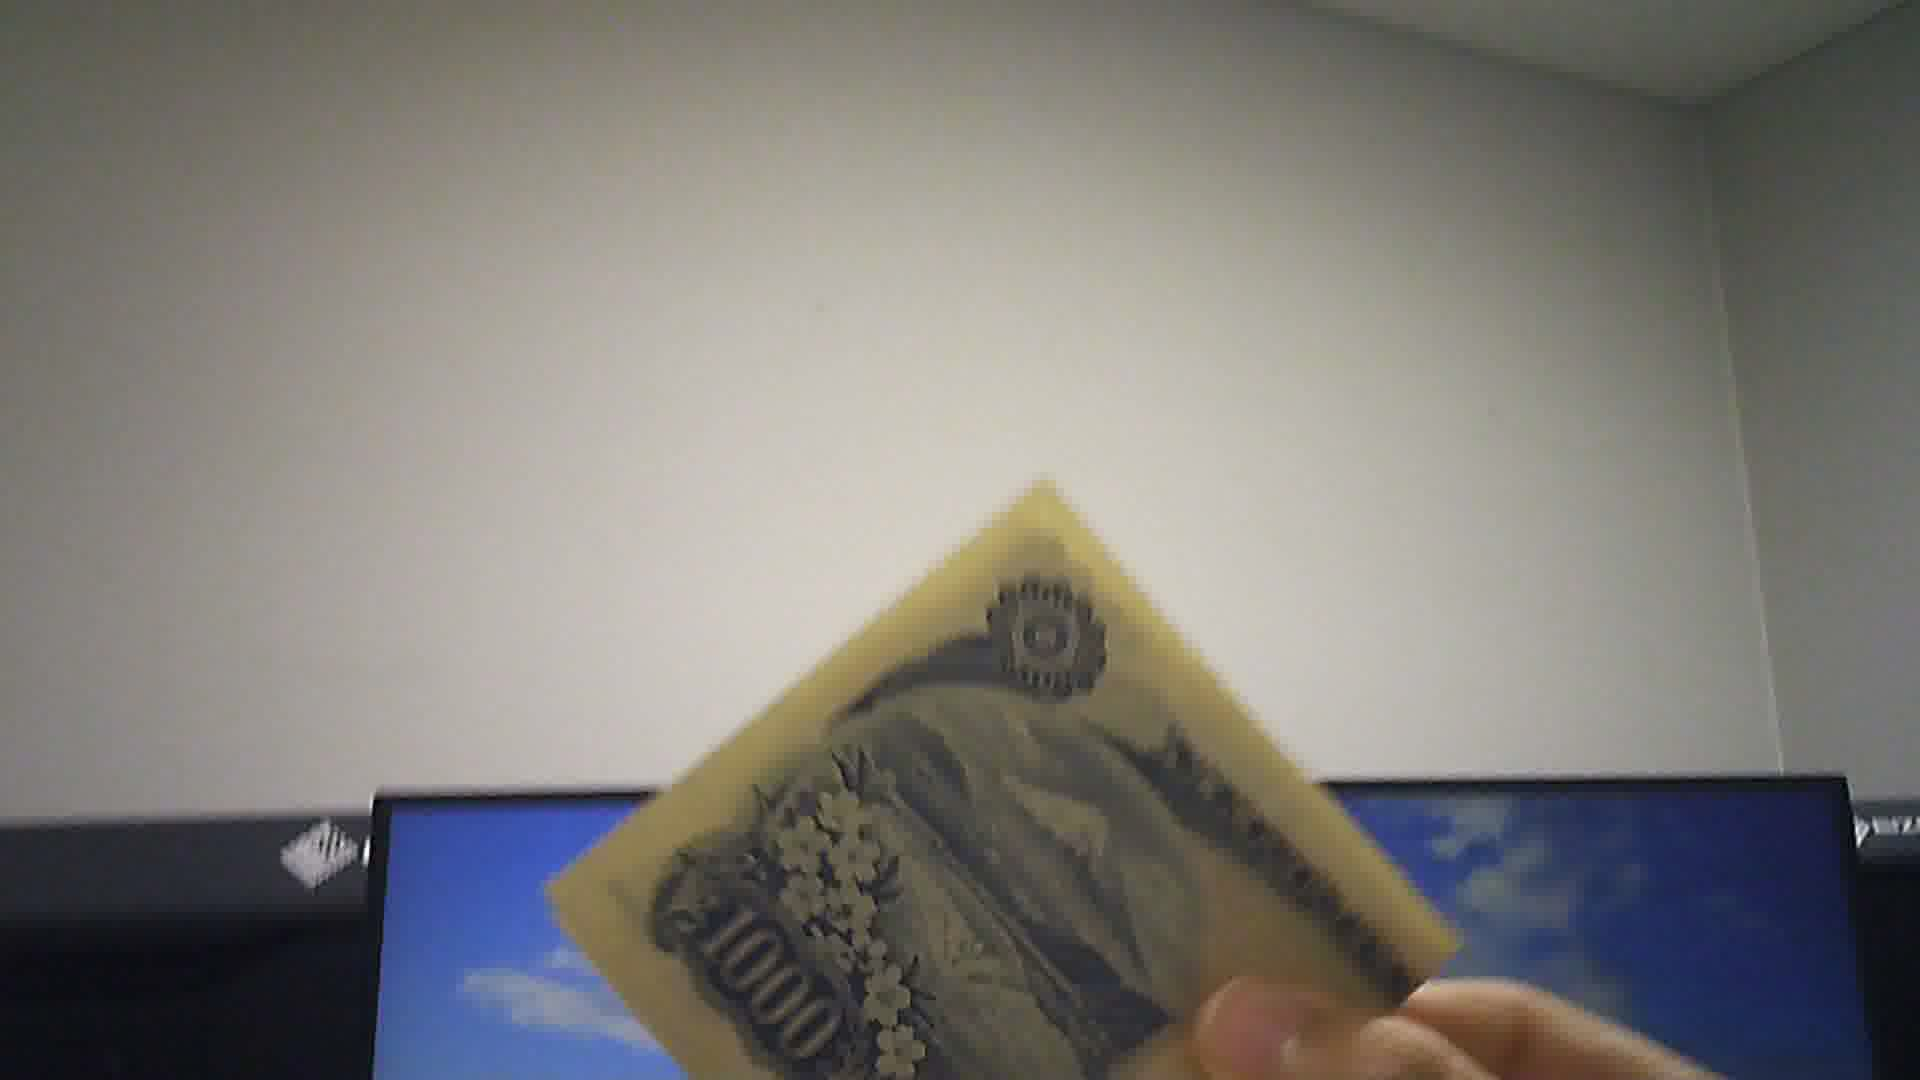1,000 Yen: (563, 481, 1437, 1079)
